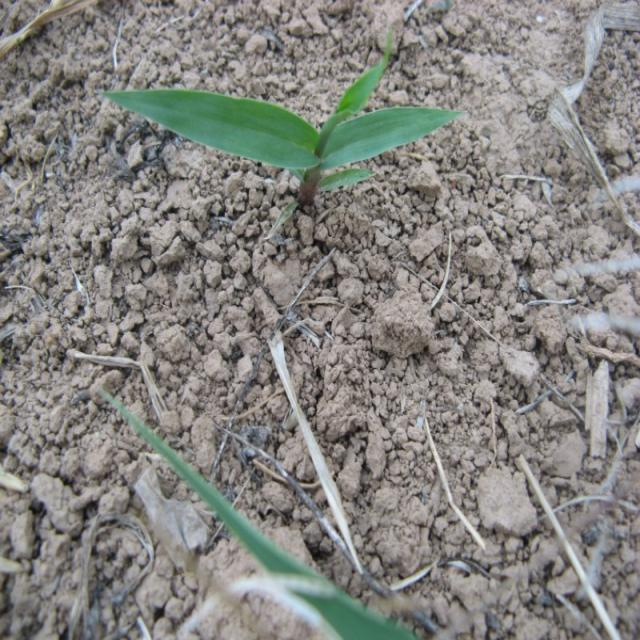bg: (97, 56, 462, 212)
